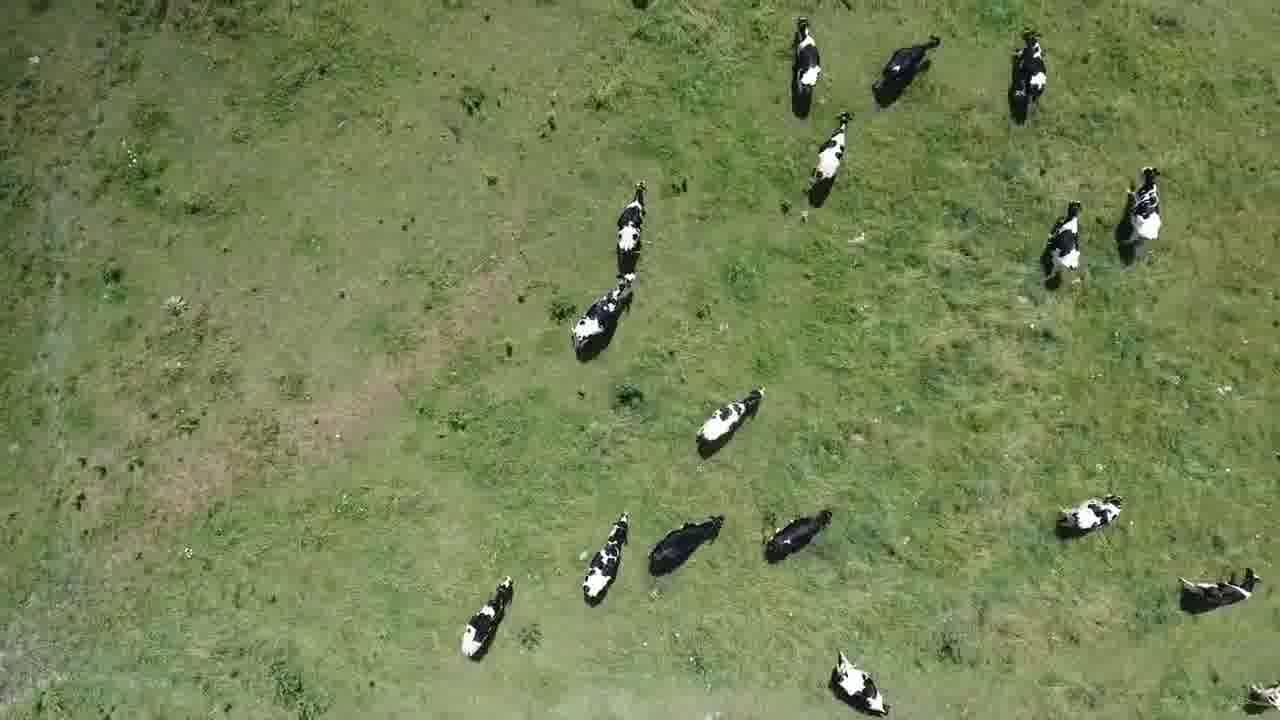cow: (568, 271, 642, 361), (645, 512, 728, 580), (458, 573, 519, 665), (693, 381, 770, 452), (580, 509, 634, 608), (1006, 22, 1054, 132), (872, 33, 945, 104), (827, 646, 893, 720), (1039, 195, 1089, 288), (1117, 164, 1168, 255), (807, 107, 860, 194), (1177, 564, 1261, 615), (762, 510, 837, 565), (786, 12, 827, 108), (1052, 489, 1129, 536), (616, 174, 653, 267)
